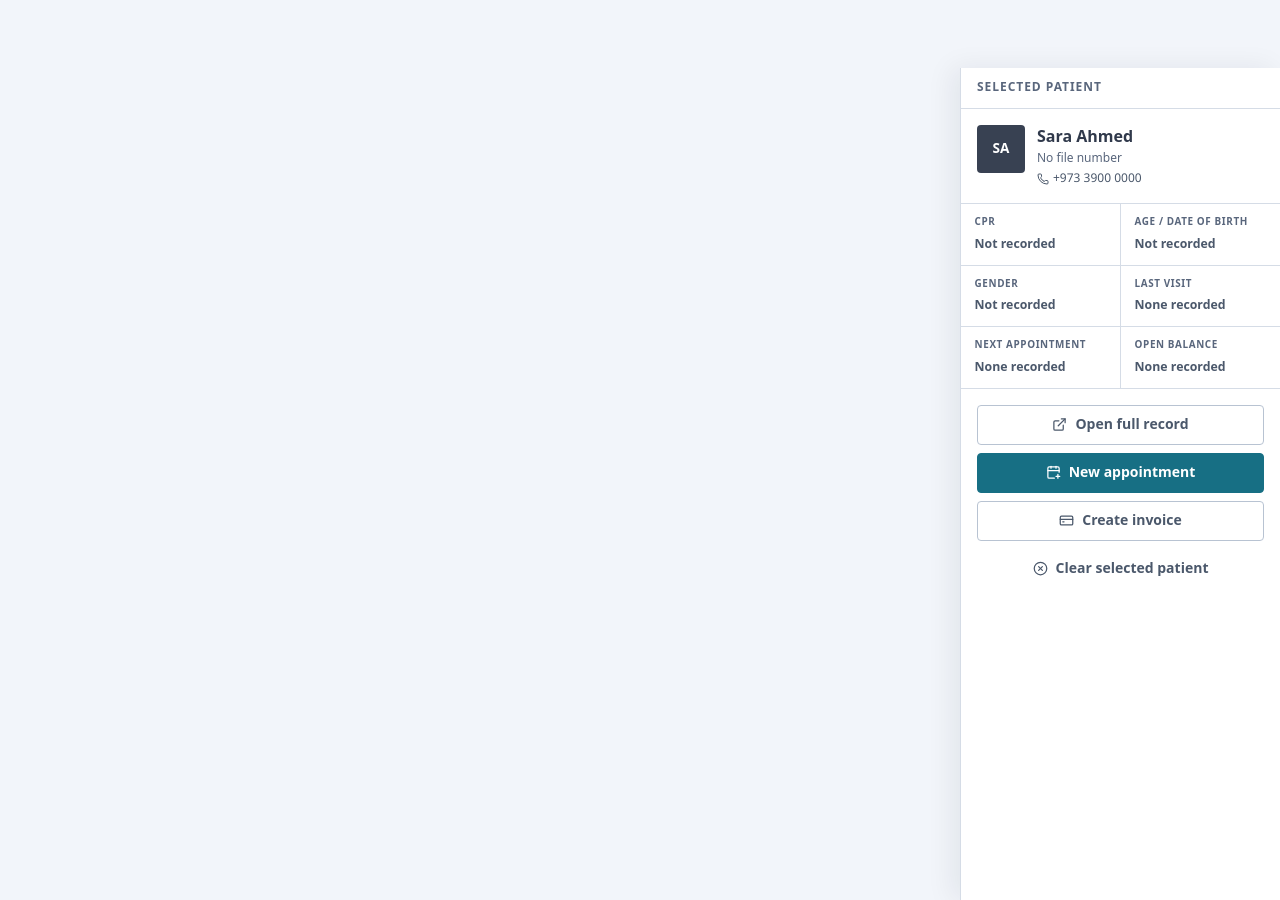
Test: PatientContextRail › opens the full patient record in a modal instead of navigating
Click the button "Open full record".
click(1120, 424)  # box [977, 404, 1264, 444]
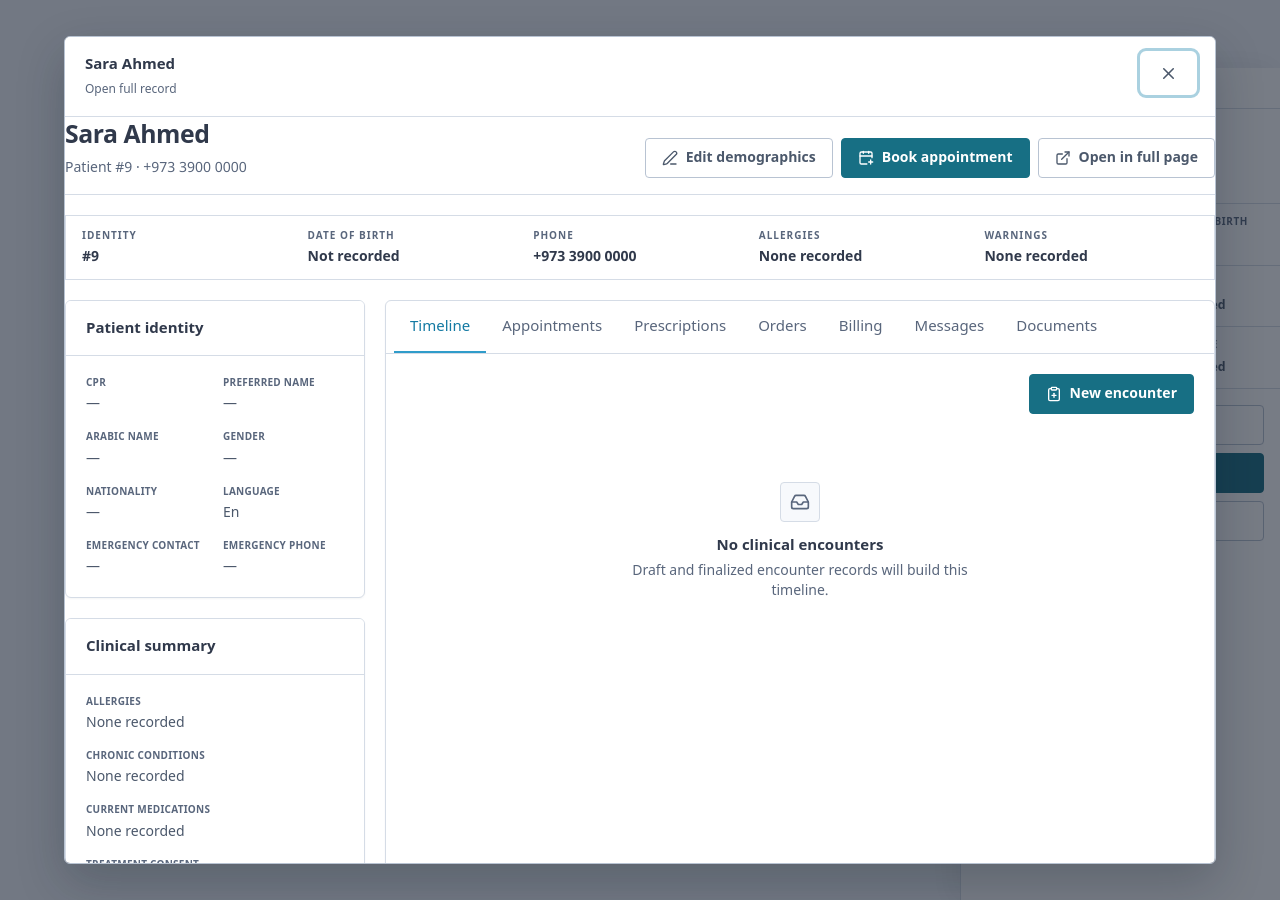
Check: the link "Open in full page" is shown, box [1038, 138, 1215, 178]
